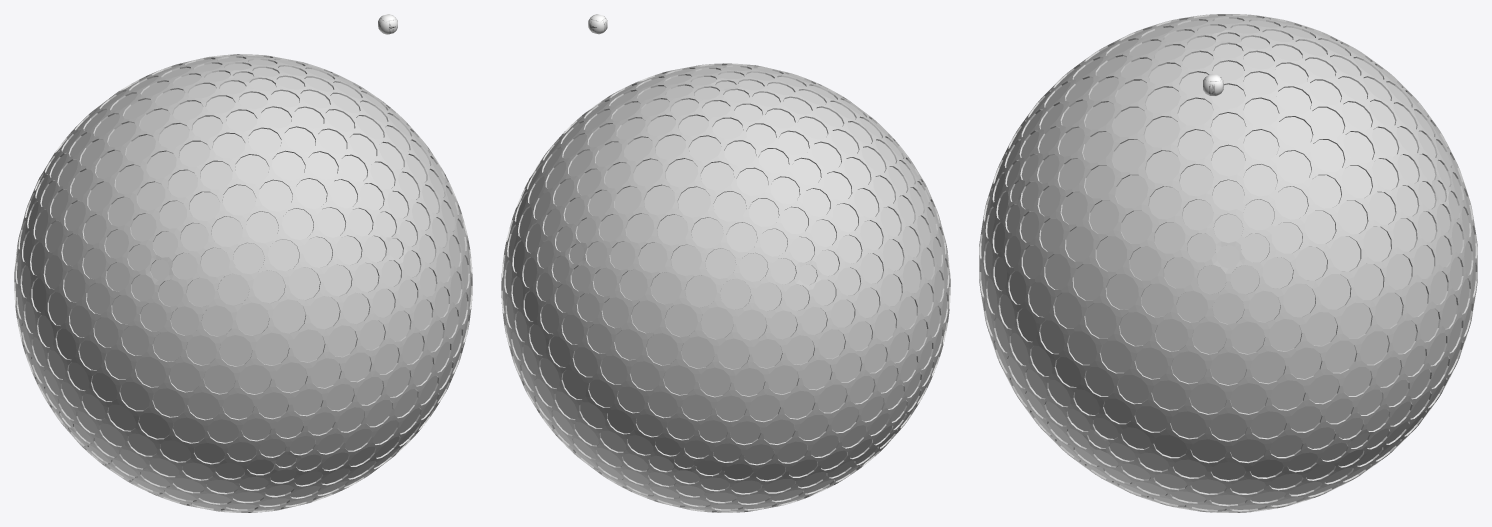
The model's file is golf_ball.glb.
The picture shows the model from 3 angles, left to right: view 1: azimuth 30°, elevation 25°; view 2: azimuth 150°, elevation 25°; view 3: azimuth 270°, elevation 25°; orthographic projection. The views are drawn at different scales.
Parts seen in each view (by area): view 1: BolaGolf; view 2: BolaGolf; view 3: BolaGolf.
Part boxes in pixels (x1,y1,x2,y2): BolaGolf: [14, 54, 472, 512]; BolaGolf: [501, 63, 950, 512]; BolaGolf: [979, 14, 1477, 512].
Bounding box in the file's own units: 1 × 1.08 × 1.
Materials: 2 (1 with a texture image).
